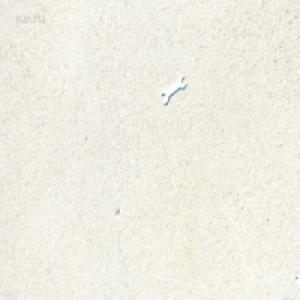Wrench: (161, 77, 185, 106)
